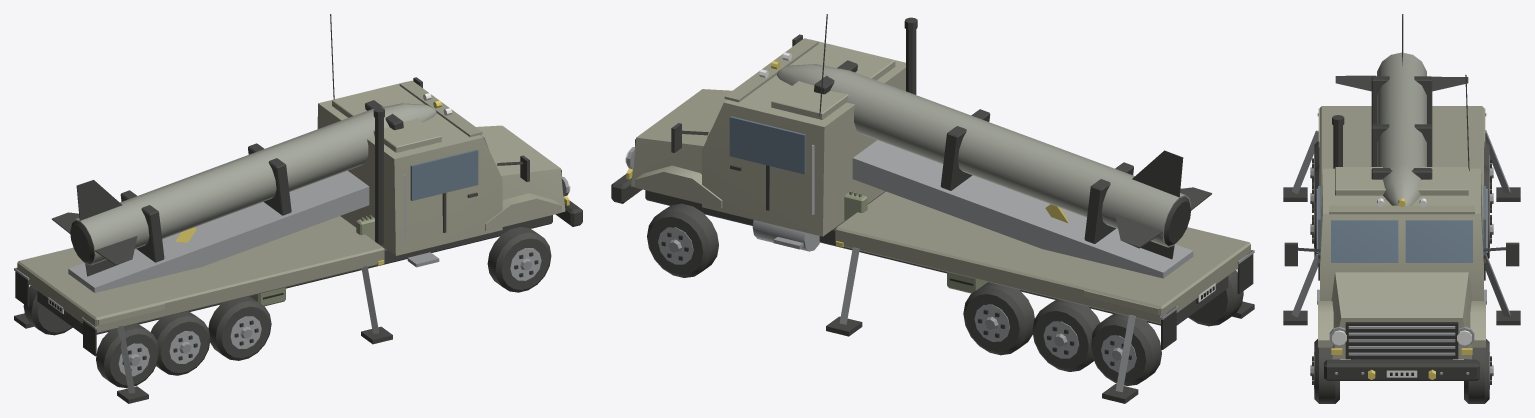
File: ssm.glb
3 views of the same model, side by side, from view 1: azimuth 30°, elevation 25°; view 2: azimuth 150°, elevation 25°; view 3: azimuth 270°, elevation 25° (orthographic). The views are drawn at different scales.
Parts seen in each view (by area): view 1: hull, turret; view 2: hull, turret; view 3: hull, turret.
Part boxes in pixels (<box>): hull: <box>14,14,582,403</box>; turret: <box>52,100,436,292</box>; hull: <box>611,14,1254,403</box>; turret: <box>777,60,1211,278</box>; hull: <box>1283,74,1520,403</box>; turret: <box>1335,14,1468,205</box>.
Size of the model in its own units: 9.78 by 4.79 by 3.9.
